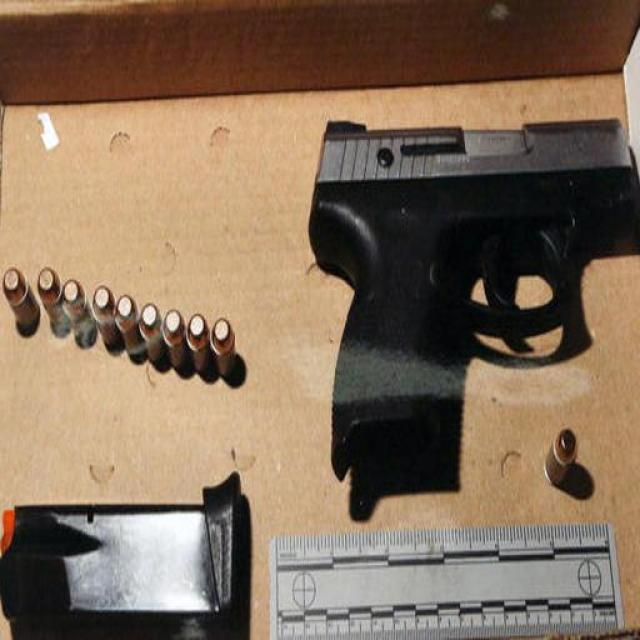pistol: (309, 116, 640, 475)
